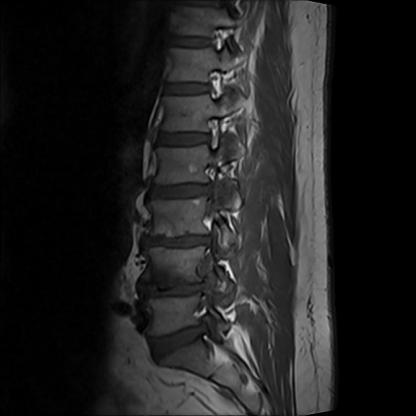Disc Bulgerotation: (143, 314, 240, 367), (139, 220, 251, 263)
